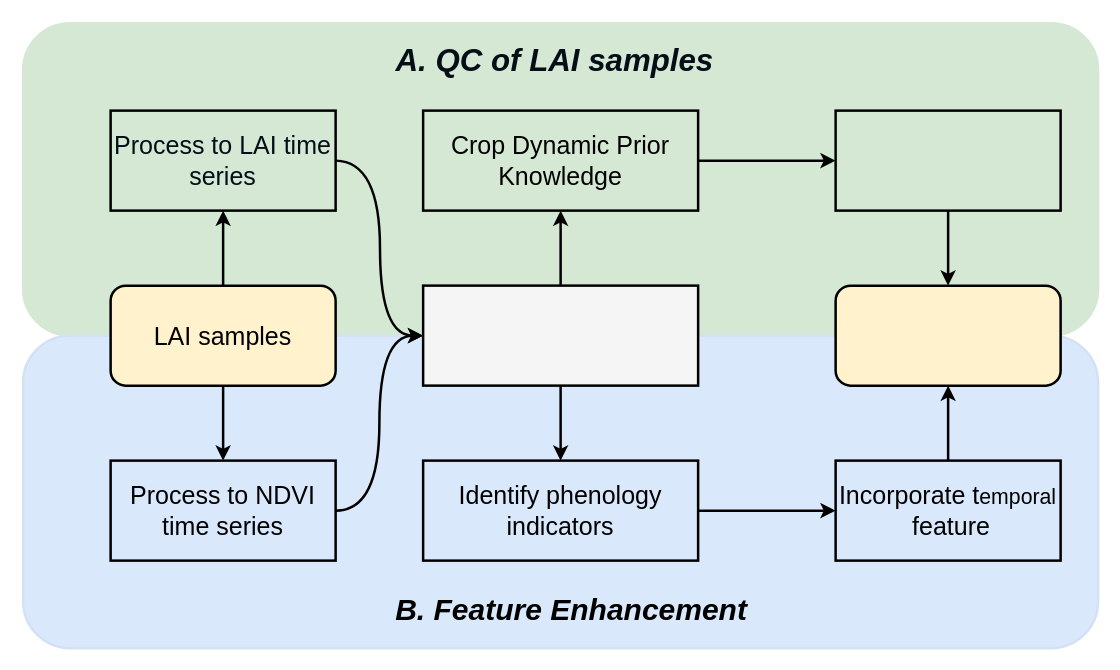
This 1120x670 diagram has some shape labels left out. The shapes that lost their labels are listed below. From the top down, each one's centre as x and y in pixels, then its label:
At pixel 947 160: "Samples filtering".
At pixel 560 335: "Double-logstic Fitting".
At pixel 947 335: "Training samples".
